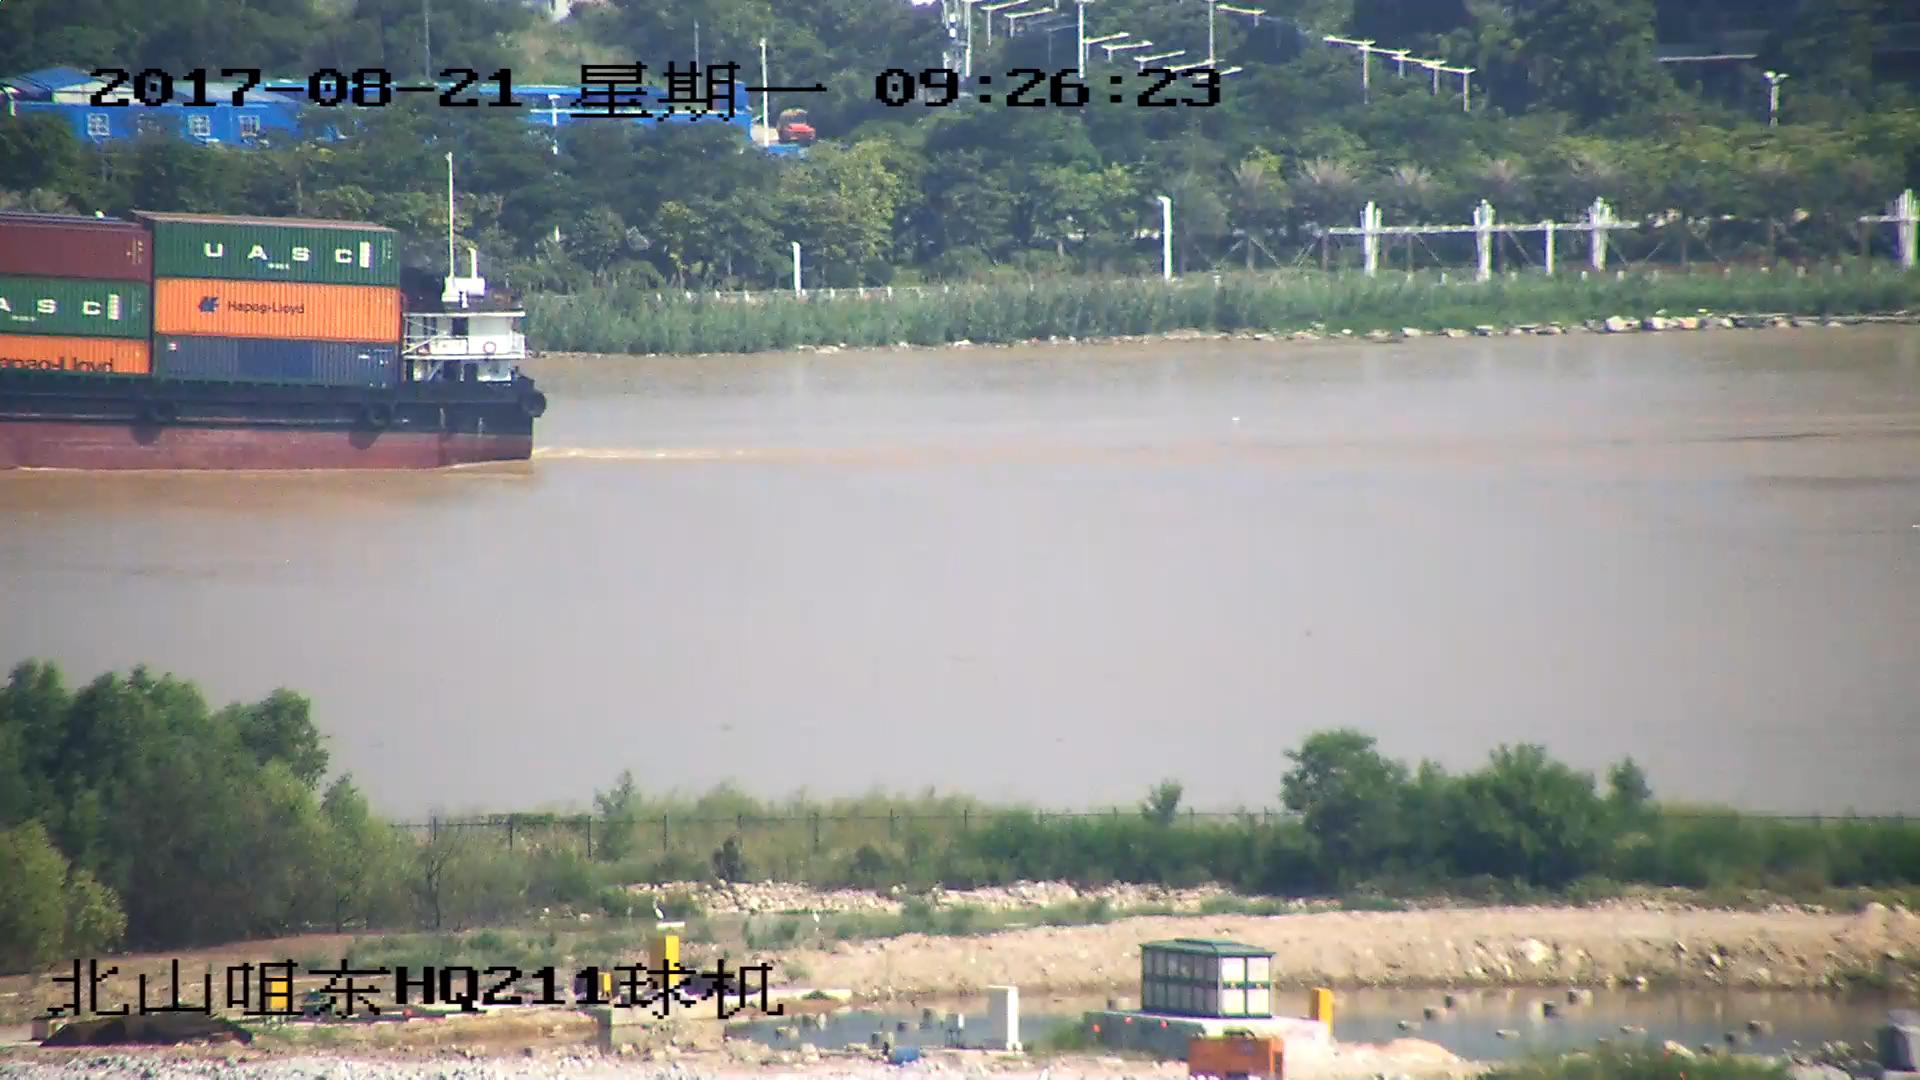container ship: (1, 153, 544, 476)
